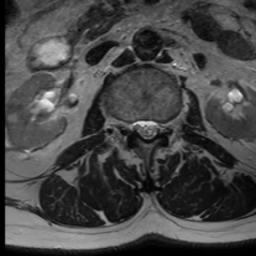CCS_stenosis: (142, 108, 151, 148)
LFS_normal: (159, 111, 169, 140)
LLS_normal: (151, 110, 159, 142)
RFS_normal: (124, 110, 132, 139)
RLS_normal: (132, 110, 142, 140)
